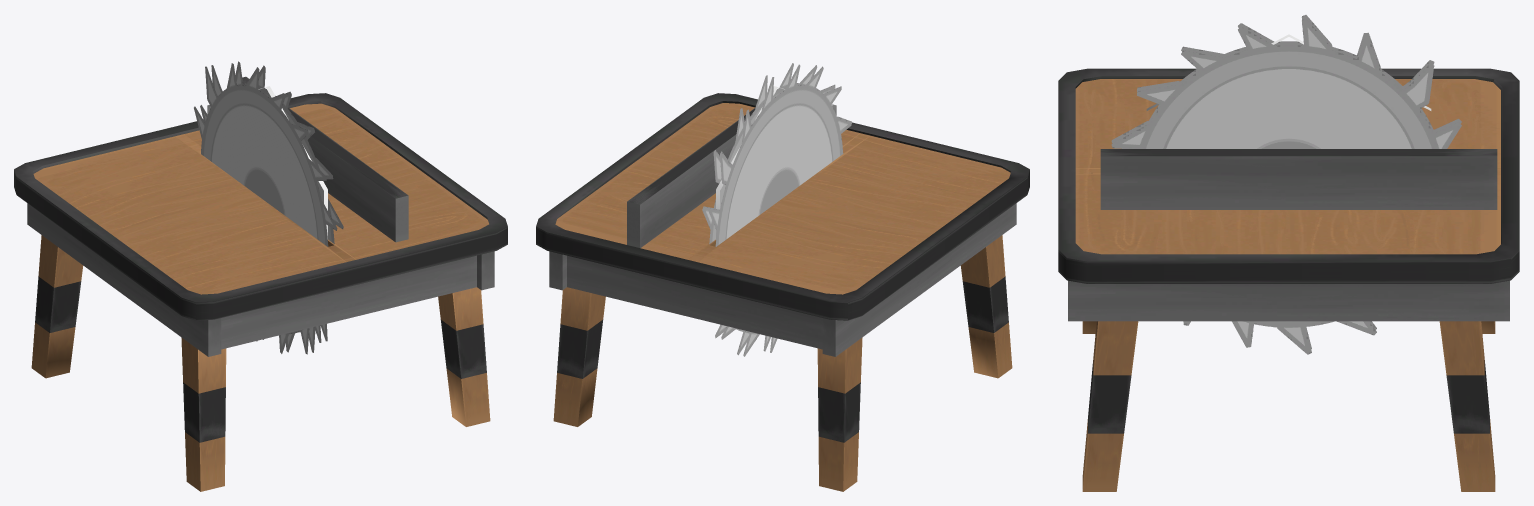
File: Table.fbx
3 renders of one model, left to right at view 1: azimuth 30°, elevation 25°; view 2: azimuth 150°, elevation 25°; view 3: azimuth 270°, elevation 25°, orthographic. The views are drawn at different scales.
Visible parts, largest first — view 1: Table, Saw; view 2: Table, Saw; view 3: Table, Saw.
Boxes of the visible parts, bbox=[...] form: Table: bbox=[14, 76, 507, 491]; Saw: bbox=[194, 61, 343, 354]; Table: bbox=[536, 93, 1029, 491]; Saw: bbox=[702, 63, 851, 356]; Table: bbox=[1058, 68, 1519, 491]; Saw: bbox=[1111, 15, 1461, 354].
Size of the model in its own units: 1.68 by 1.6 by 1.7.
3 materials, 3 textured.
